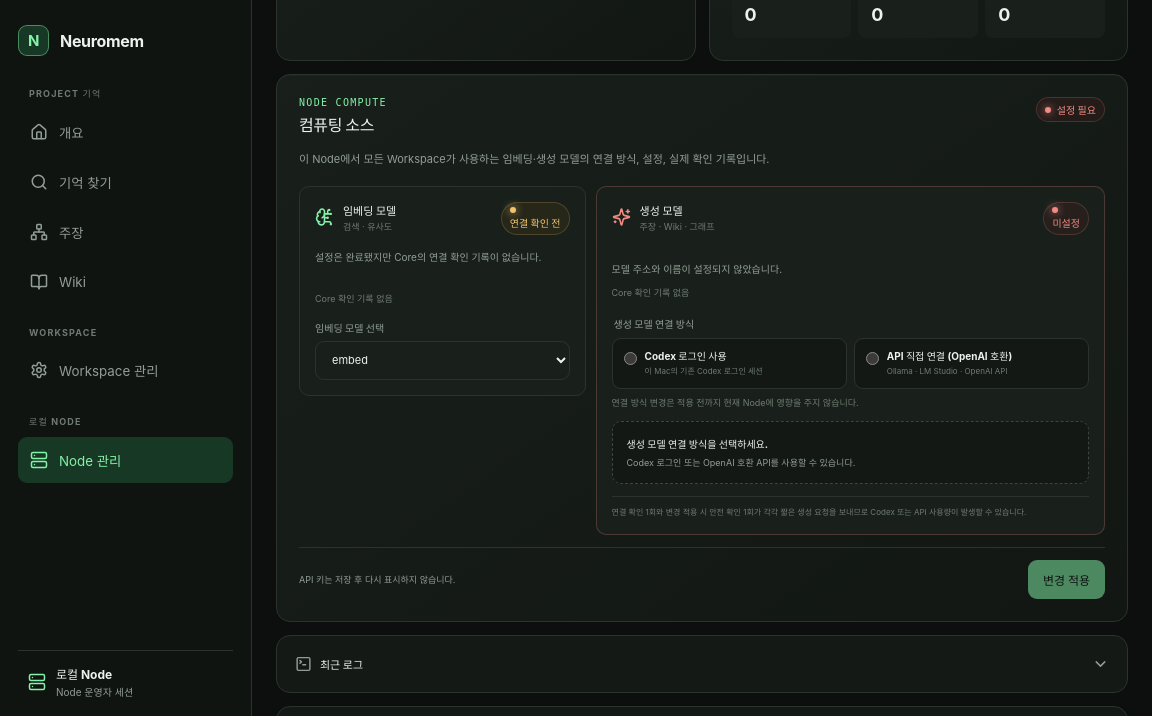
Scenario: Neuromem web routes › keeps the selected draft and reports an apply failure without refreshing status
(page scrolled)
Select "embed-new" in the dropdown labelled "임베딩 모델 선택" at (442, 360), box 315,341 -> 570,380
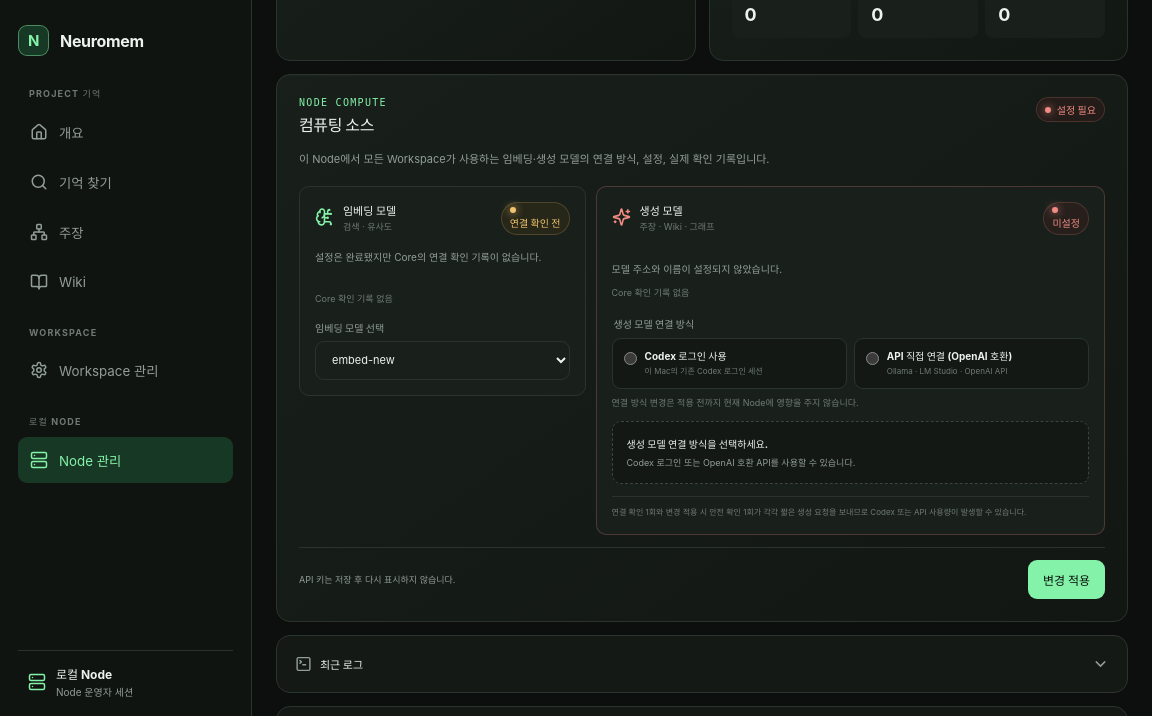
Click the button "변경 적용" at (1066, 579), box 1028,560 -> 1105,599
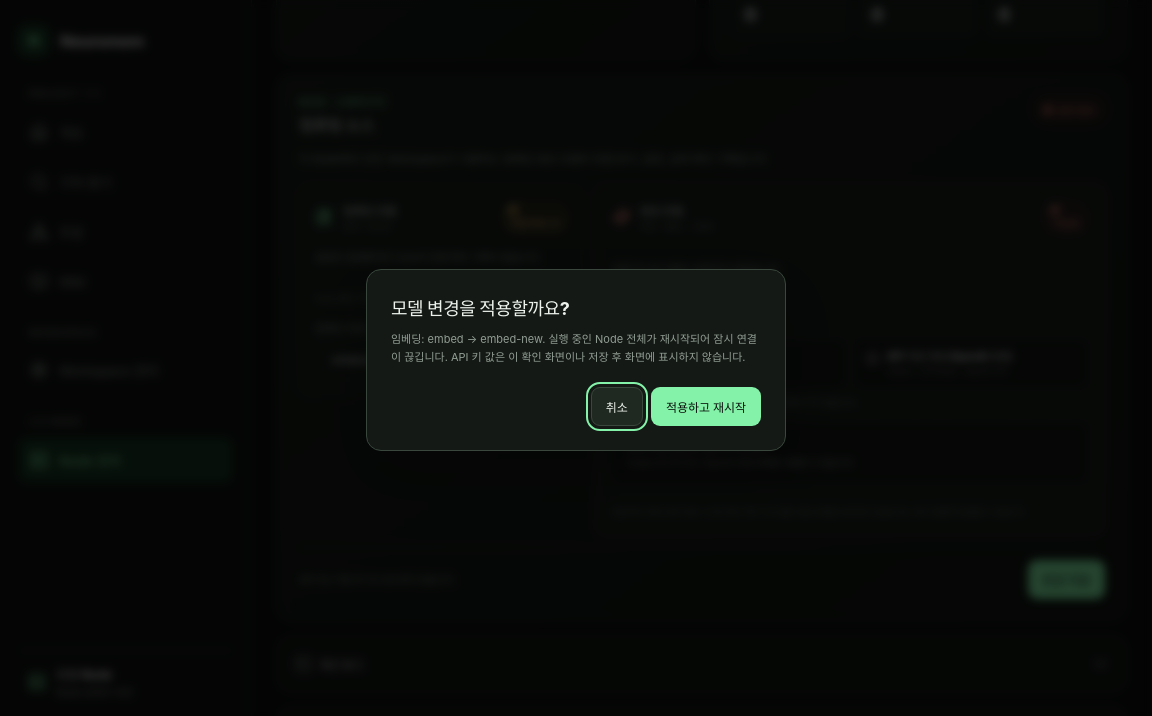
Click the button "적용하고 재시작" at (706, 406), box 651,387 -> 761,426
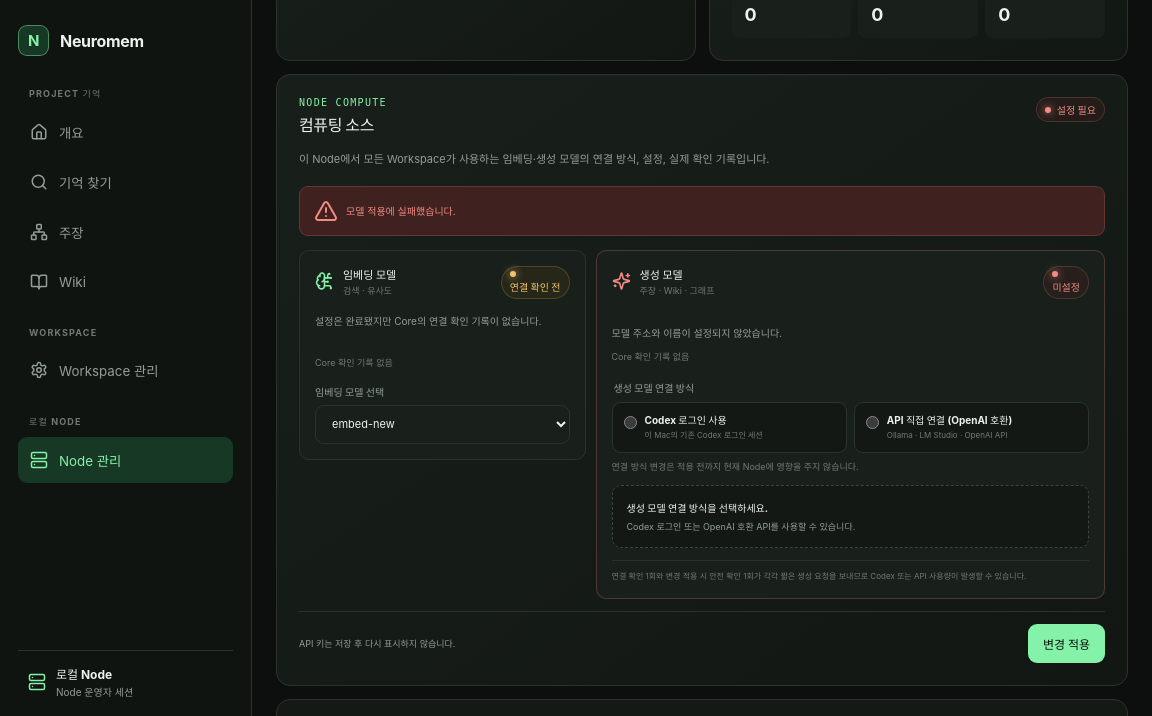
Check: the button "변경 적용" is enabled, box 1028,624 -> 1105,663
Check: the message reads "모델 적용에 실패했습니다.", box 346,205 -> 456,217
